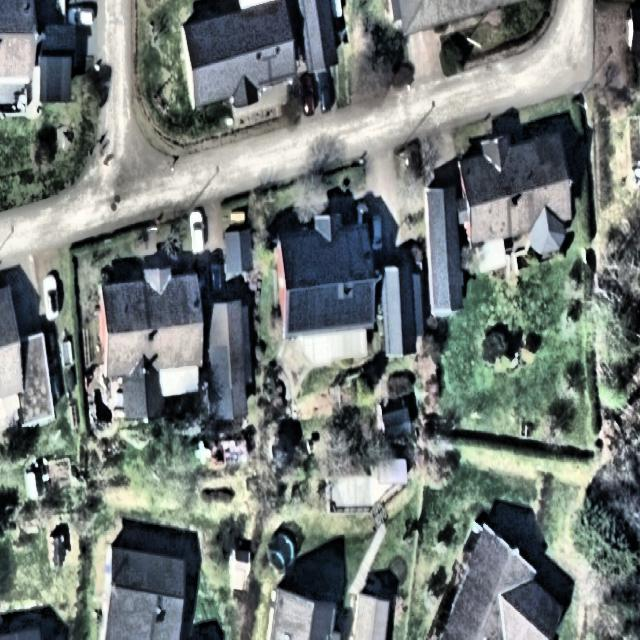roof_pv: (288, 275, 379, 338)
